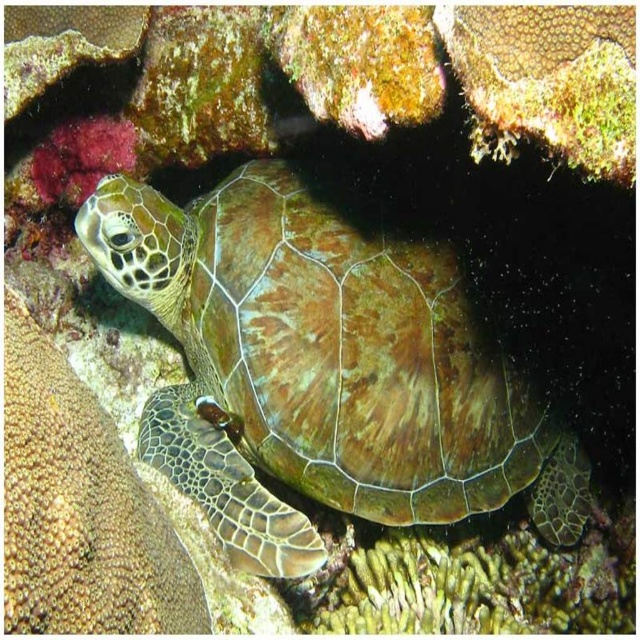Sea turtle: (74, 156, 596, 580)
